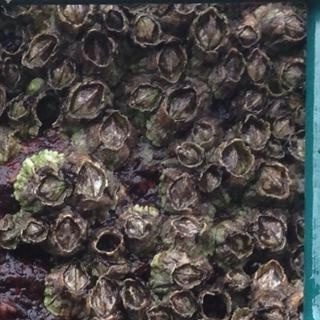Barnacle: (97, 113, 135, 154), (69, 81, 106, 120), (196, 10, 226, 51), (37, 171, 69, 207), (223, 139, 254, 175), (77, 161, 106, 199), (255, 163, 289, 195), (255, 262, 284, 299), (168, 172, 196, 209), (166, 88, 198, 120), (24, 35, 57, 66), (160, 41, 185, 81), (242, 116, 270, 151), (258, 215, 286, 249), (282, 60, 313, 90), (91, 278, 116, 315), (62, 260, 89, 294), (49, 55, 76, 88), (54, 215, 80, 249), (132, 15, 161, 45), (173, 263, 205, 288), (197, 163, 223, 192), (132, 85, 163, 109), (246, 50, 269, 82), (60, 1, 92, 23), (1, 56, 23, 86), (169, 291, 196, 315), (283, 13, 308, 38), (224, 50, 244, 81), (177, 143, 203, 166), (245, 86, 269, 110), (122, 215, 147, 238), (125, 282, 146, 309), (10, 98, 31, 123), (174, 216, 203, 234), (226, 232, 252, 252), (104, 9, 125, 33), (239, 23, 259, 46), (273, 117, 294, 138), (260, 304, 286, 319), (230, 267, 250, 286), (193, 121, 213, 140), (149, 305, 172, 319), (0, 229, 18, 246), (26, 222, 45, 238)
